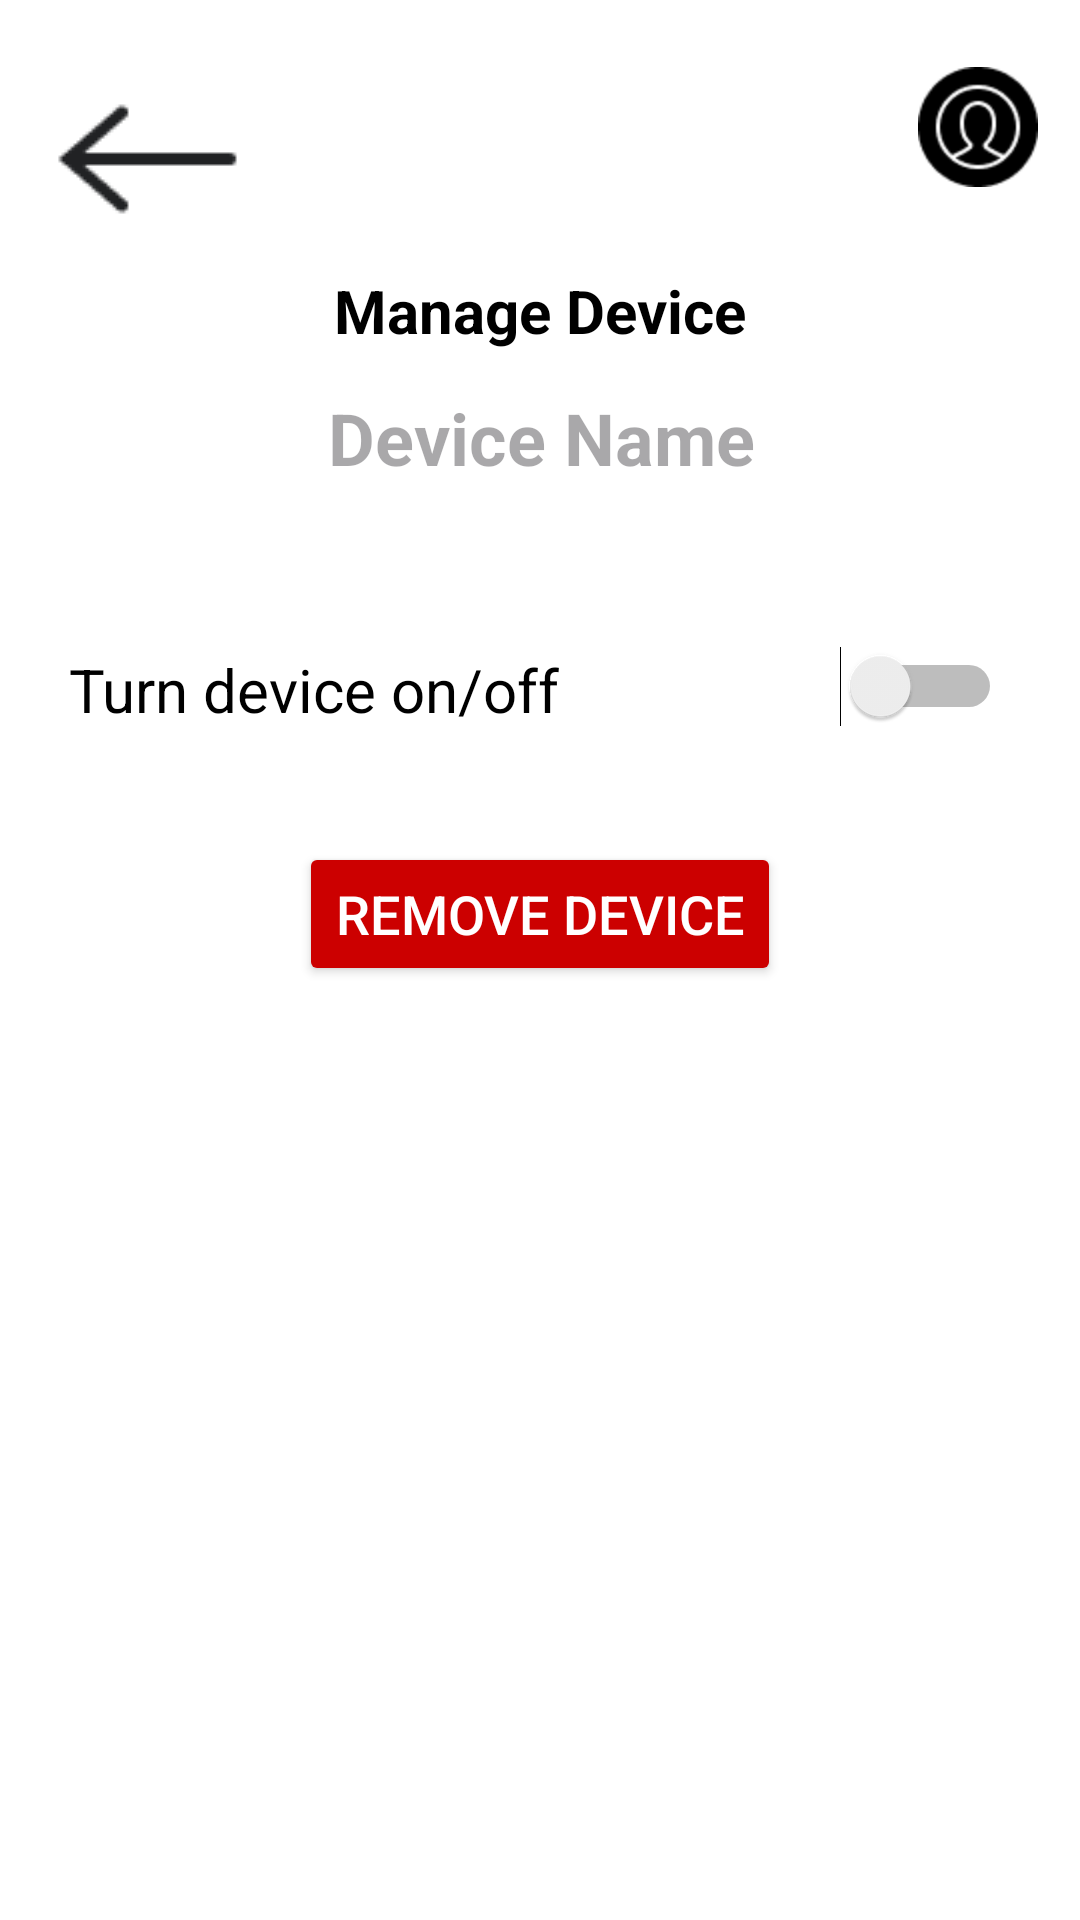

Screen size 1080*1920. Icon name, then its box in pixels as (x1, y1, x2, y2):
imgbackarrow: (58, 104, 237, 214)
imgprofilepic: (918, 67, 1038, 187)
